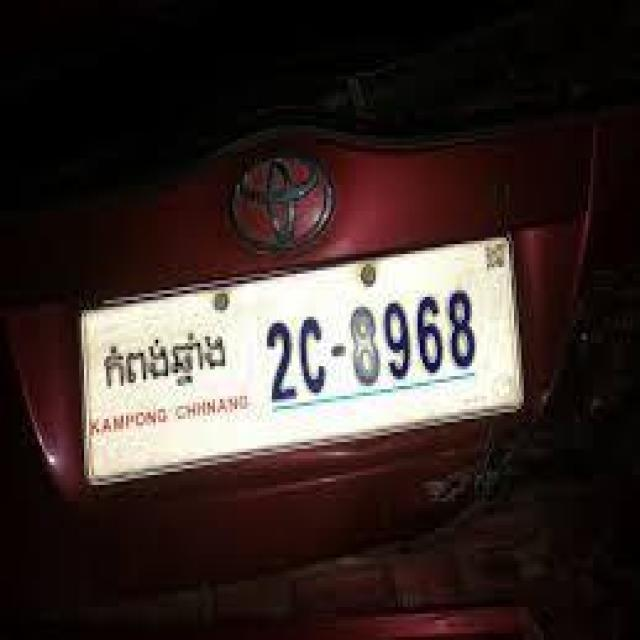Kampong_Chhnang: (104, 330, 230, 397)
